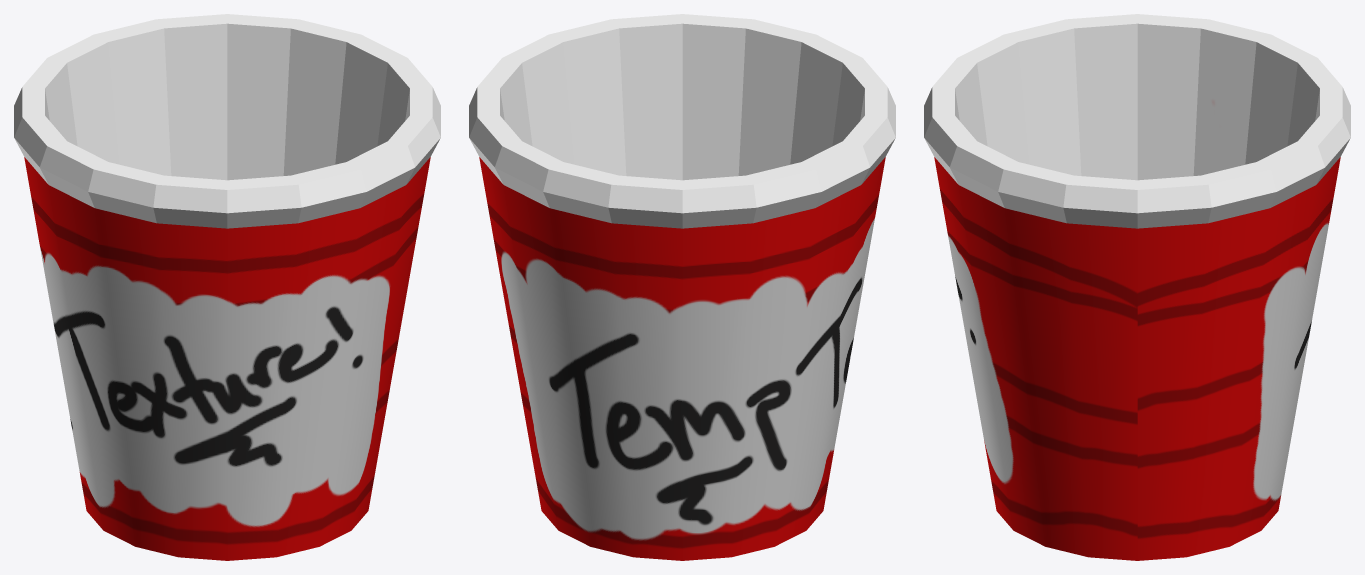
Rendered from solocup.FBX.
3 views of the same model, side by side, from view 1: azimuth 30°, elevation 25°; view 2: azimuth 150°, elevation 25°; view 3: azimuth 270°, elevation 25° (orthographic).
Parts seen in each view (by area): view 1: Cylinder001; view 2: Cylinder001; view 3: Cylinder001.
Part boxes in pixels (x1,y1,x2,y2): Cylinder001: [14, 14, 440, 560]; Cylinder001: [469, 14, 895, 560]; Cylinder001: [924, 14, 1350, 560].
Bounding box in the file's own units: 57.12 × 57.93 × 56.25.
1 material, 1 textured.
